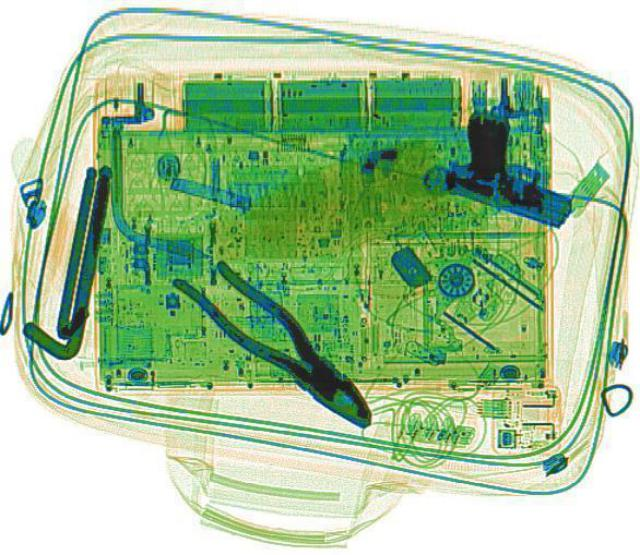Gun: (429, 104, 603, 228)
Pliers: (164, 247, 398, 440)
